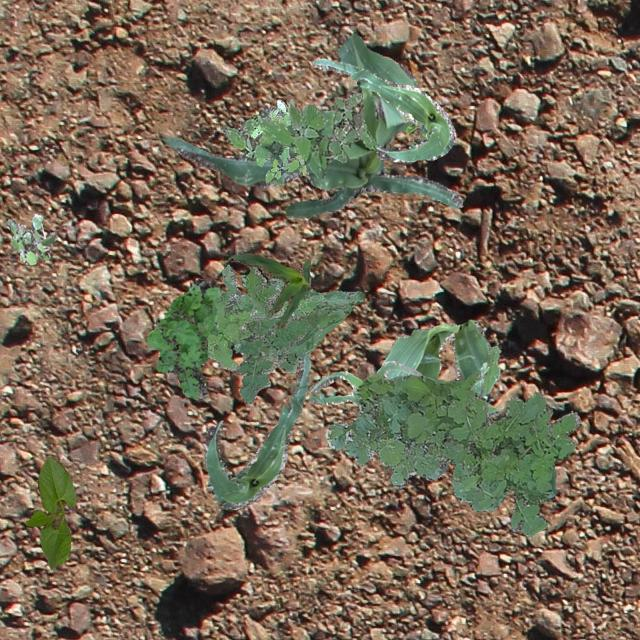crop: (160, 32, 462, 216), (203, 352, 310, 508), (312, 57, 454, 162), (382, 318, 488, 396), (227, 252, 310, 326), (24, 454, 74, 568), (308, 360, 421, 406)
weed: (324, 370, 580, 536), (205, 264, 363, 372), (220, 92, 376, 178), (232, 264, 308, 402), (146, 278, 220, 400), (250, 98, 308, 182), (240, 274, 322, 318), (450, 344, 500, 416), (6, 212, 54, 264), (402, 114, 424, 138)
